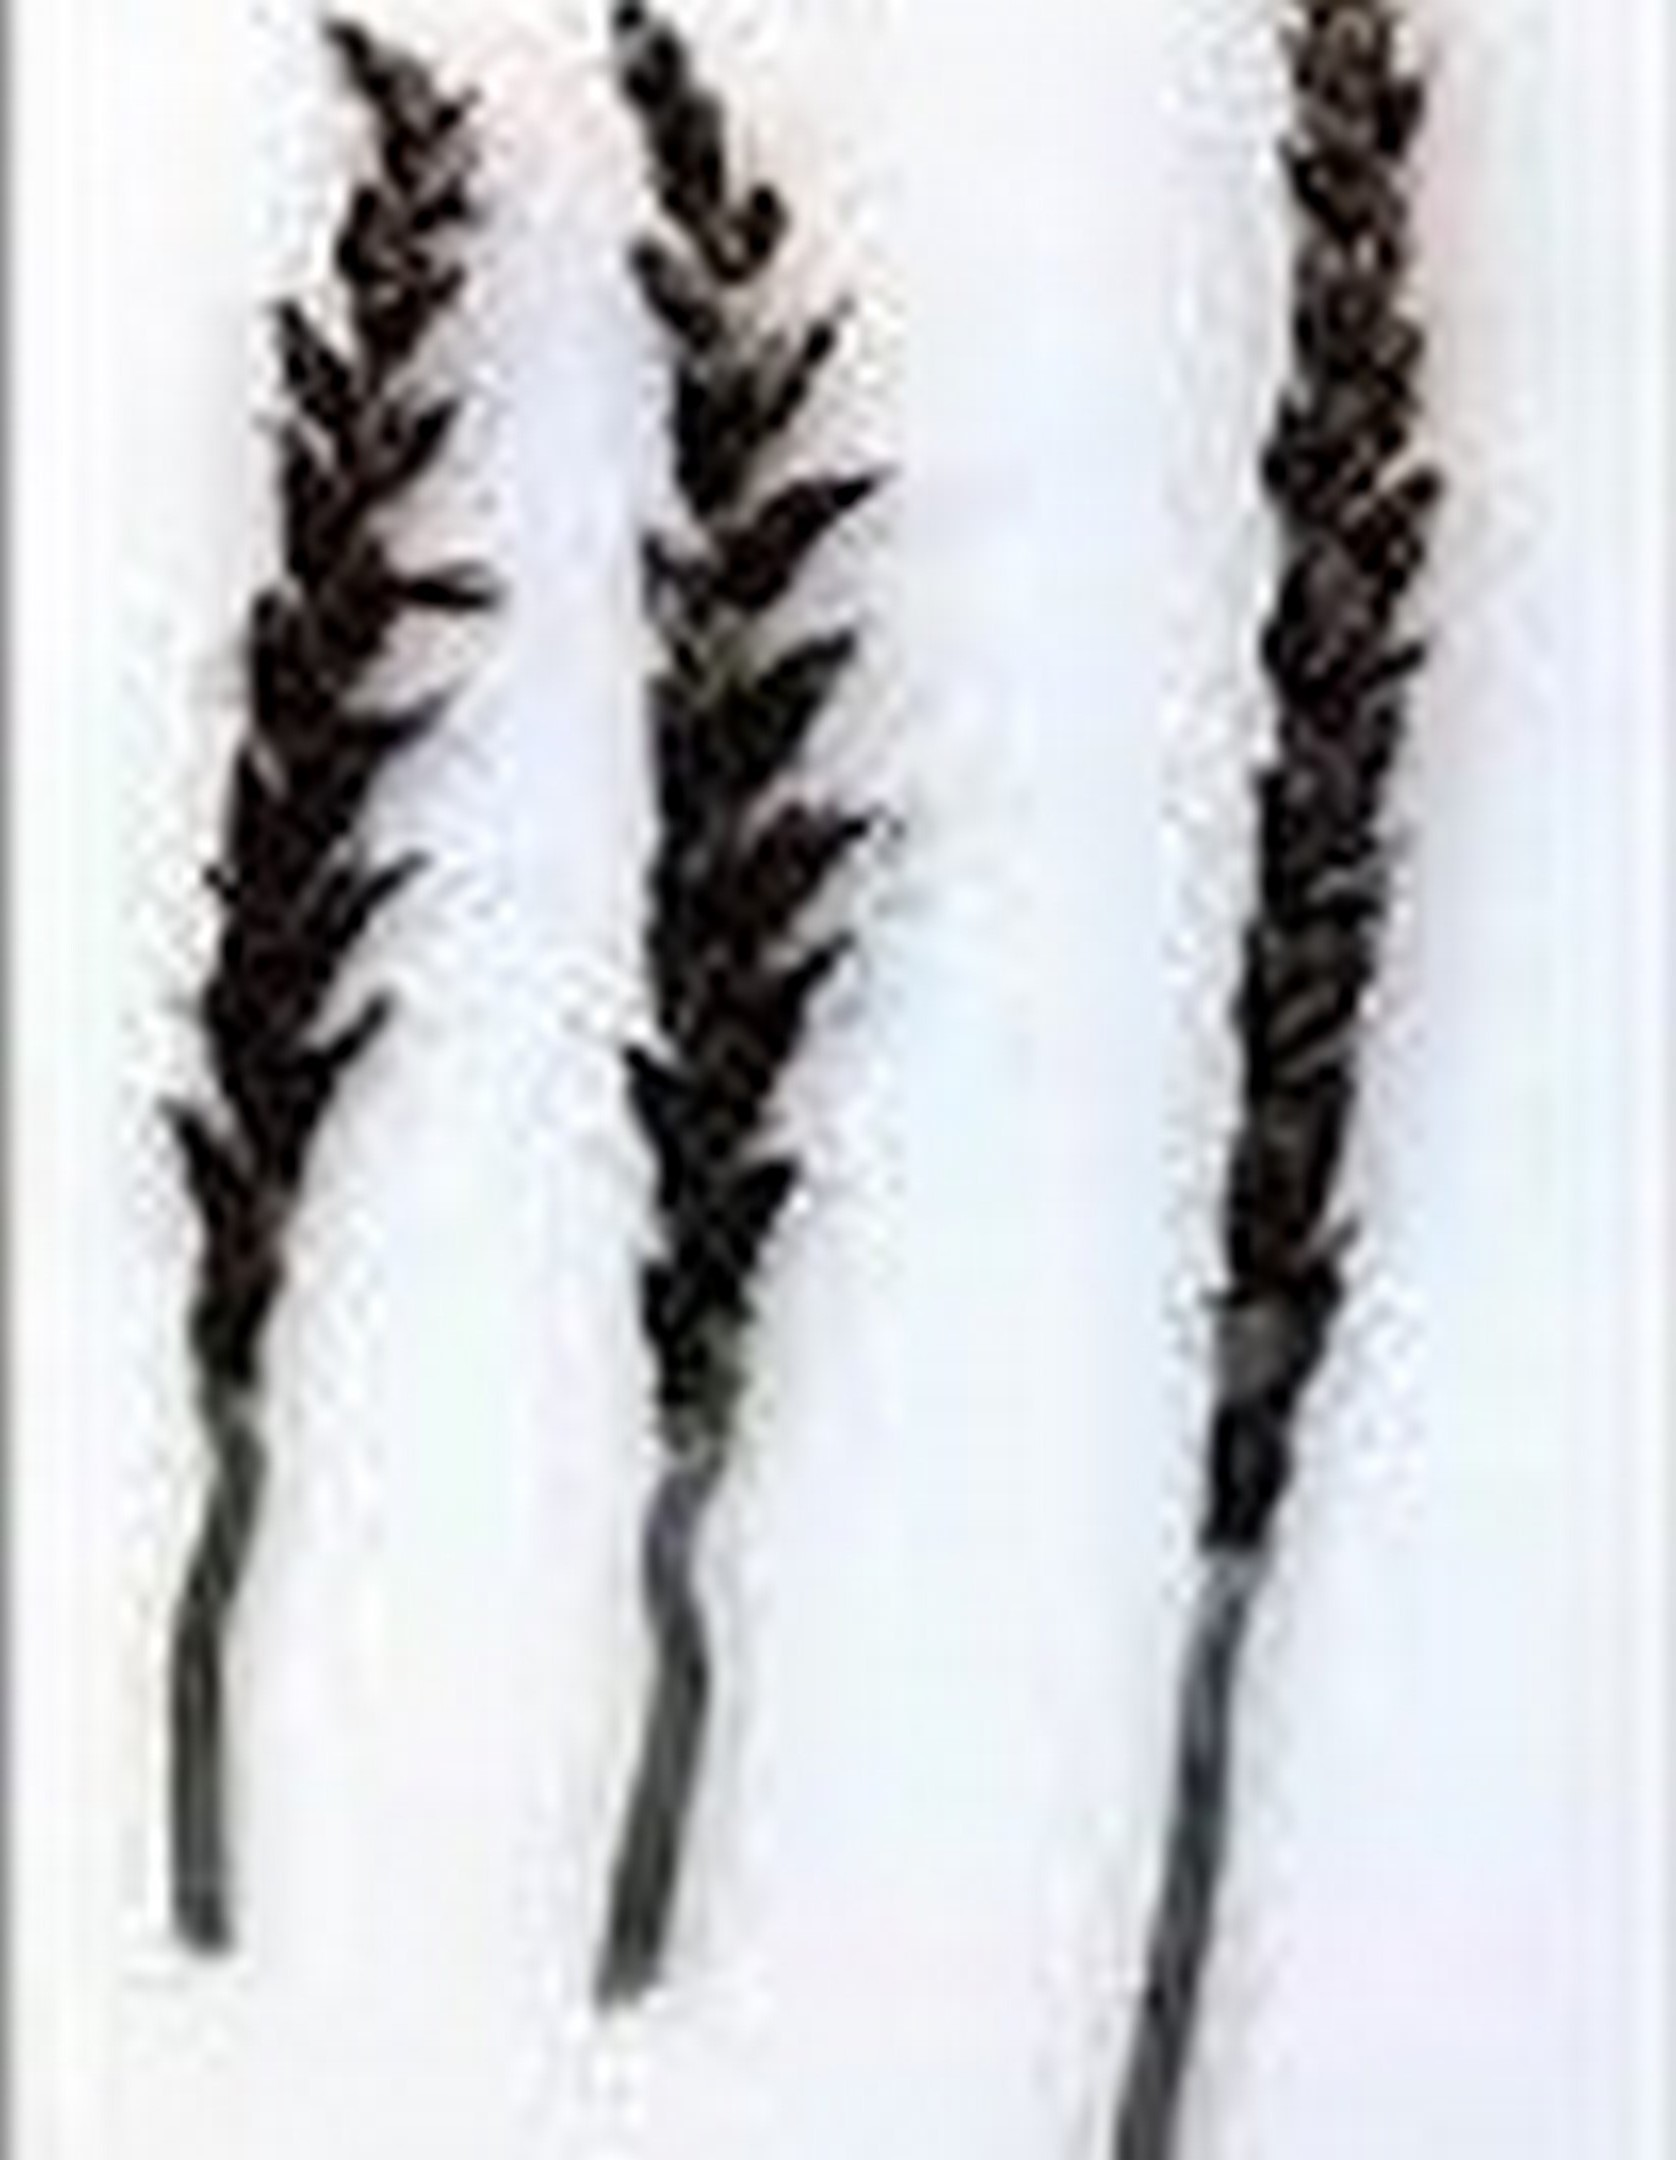Wheat Loose Smut: (146, 81, 976, 1452)
